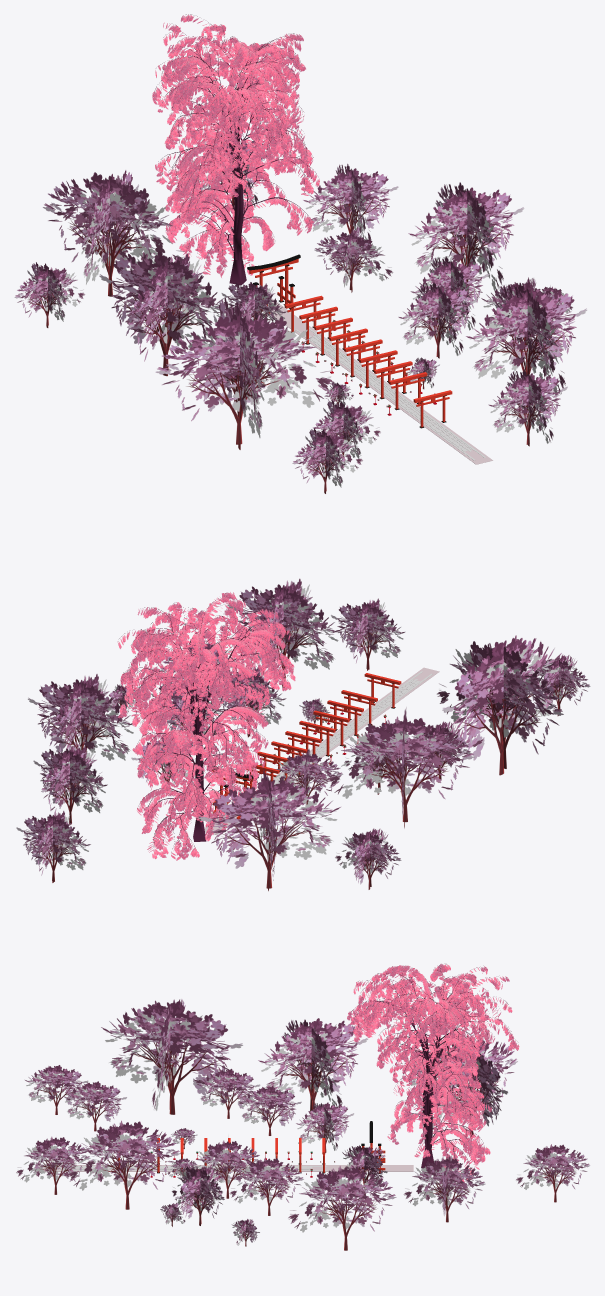
File: syuusei sakura jinnja.glb
3 views of the same model, one above another, from view 1: azimuth 30°, elevation 25°; view 2: azimuth 150°, elevation 25°; view 3: azimuth 270°, elevation 25° (orthographic). The views are drawn at different scales.
Parts seen in each view (by area): view 1: Column.009; view 2: Column.009; view 3: Column.009.
Part boxes in pixels (x1,y1,x2,y2): Column.009: (14, 14, 586, 493); Column.009: (16, 578, 590, 890); Column.009: (16, 963, 589, 1250).
Size of the model in its own units: 104 by 58.35 by 138.
Materials: 15 (4 with a texture image).
